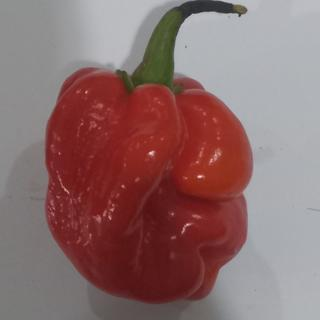Grade-A: (31, 59, 256, 305)
